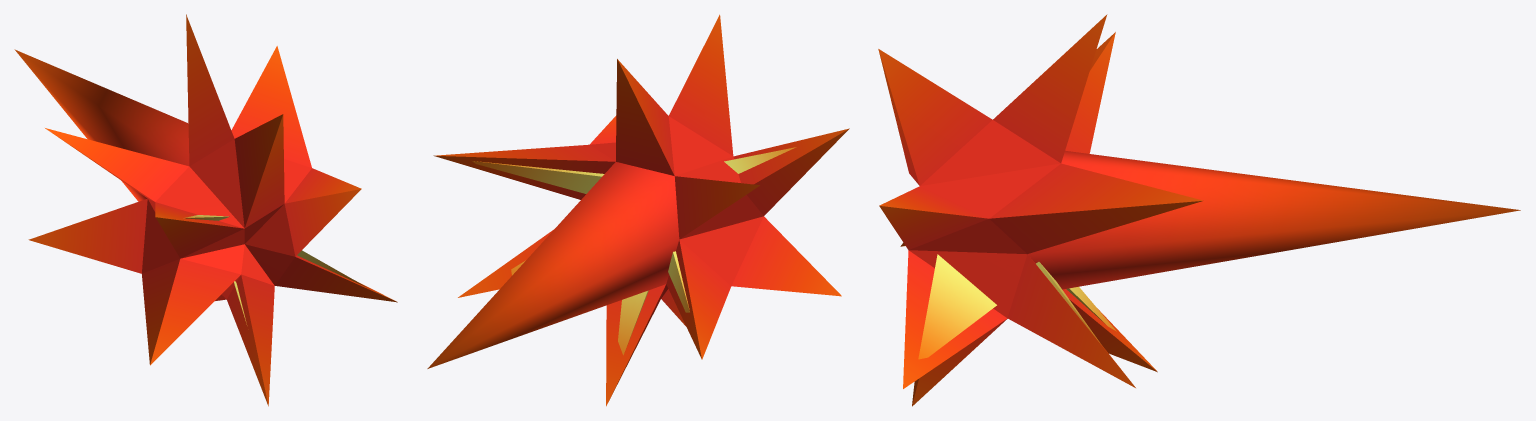
Rendered from MuzzleFlash.FBX.
3 renders of one model, left to right at view 1: azimuth 30°, elevation 25°; view 2: azimuth 150°, elevation 25°; view 3: azimuth 270°, elevation 25°, orthographic. The views are drawn at different scales.
Visible parts, largest first — view 1: MuzzleFlash; view 2: MuzzleFlash; view 3: MuzzleFlash.
Boxes of the visible parts, x1,y1,x2,y2 form: MuzzleFlash: (14, 14, 397, 406); MuzzleFlash: (427, 14, 849, 406); MuzzleFlash: (878, 14, 1520, 406).
Size of the model in its own units: 236 by 271 by 402.
Materials: 1 (1 with a texture image).
